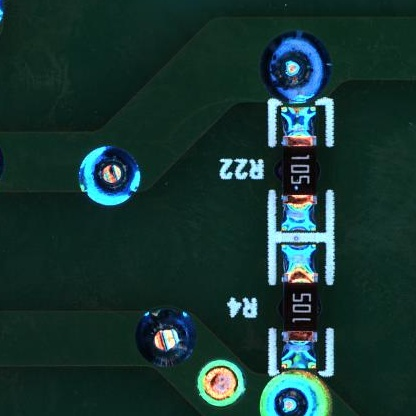spot: (263, 34, 331, 100), (133, 307, 197, 365), (79, 146, 141, 205), (260, 372, 332, 416)
